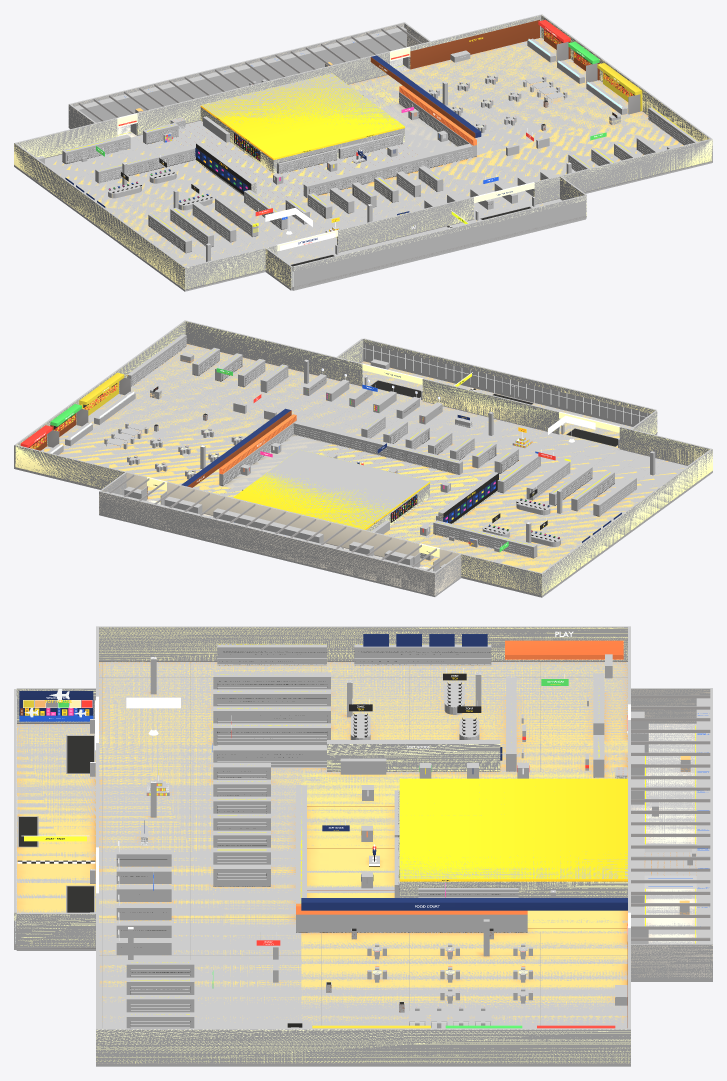
The picture shows the model from 3 angles, top to bottom: view 1: azimuth 30°, elevation 25°; view 2: azimuth 150°, elevation 25°; view 3: azimuth 270°, elevation 25°; orthographic projection. The views are drawn at different scales.
Visible parts, largest first — view 1: COL_tile_floor_0, VIS_polish, VIS_wall, COL_tile_floor_5, VIS_header, COL_concrete_lobby_storefront, COL_tile_floor_1, COL_metal_racking, COL_concrete_soft_block, COL_wood_floor_2, COL_concrete_store_w, VIS_grey (+37 smaller); view 2: COL_tile_floor_0, VIS_polish, VIS_wall, COL_tile_floor_5, COL_concrete_stock_n, VIS_concrete, COL_concrete_soft_block, COL_concrete_lobby_storefront, COL_tile_floor_1, VIS_header, COL_concrete_store_front_2, COL_concrete_store_w (+36 smaller); view 3: VIS_polish, COL_tile_floor_0, VIS_header, COL_concrete_store_e, COL_tile_floor_1, COL_tile_floor_5, VIS_wall, VIS_laminate, COL_concrete_store_w, VIS_grey, COL_tile_floor_6, VIS_navy (+50 smaller).
Part boxes in pixels (bbox=[...]): COL_tile_floor_0: bbox=[144, 114, 710, 290]; VIS_polish: bbox=[53, 38, 683, 265]; VIS_wall: bbox=[14, 16, 712, 289]; COL_tile_floor_5: bbox=[370, 37, 645, 154]; VIS_header: bbox=[66, 32, 698, 239]; COL_concrete_lobby_storefront: bbox=[292, 195, 585, 290]; COL_tile_floor_1: bbox=[45, 134, 252, 235]; COL_metal_racking: bbox=[74, 26, 406, 122]; COL_concrete_soft_block: bbox=[200, 73, 404, 172]; COL_wood_floor_2: bbox=[172, 120, 422, 204]; COL_concrete_store_w: bbox=[14, 142, 186, 291]; VIS_grey: bbox=[14, 25, 712, 289]; COL_tile_floor_0: bbox=[131, 344, 686, 512]; VIS_polish: bbox=[43, 344, 683, 572]; VIS_wall: bbox=[15, 321, 712, 595]; COL_tile_floor_5: bbox=[41, 392, 261, 500]; COL_concrete_stock_n: bbox=[100, 491, 433, 596]; VIS_concrete: bbox=[99, 473, 461, 595]; COL_concrete_soft_block: bbox=[251, 449, 429, 531]; COL_concrete_lobby_storefront: bbox=[363, 338, 656, 426]; COL_tile_floor_1: bbox=[420, 486, 622, 571]; VIS_header: bbox=[30, 340, 631, 545]; COL_concrete_store_front_2: bbox=[185, 320, 362, 385]; COL_concrete_store_w: bbox=[540, 448, 712, 597]; VIS_polish: bbox=[17, 662, 627, 1025]; COL_tile_floor_0: bbox=[99, 662, 301, 1028]; VIS_header: bbox=[25, 644, 695, 1014]; COL_concrete_store_e: bbox=[96, 1028, 630, 1066]; COL_tile_floor_1: bbox=[301, 662, 627, 771]; COL_tile_floor_5: bbox=[301, 932, 627, 1028]; VIS_wall: bbox=[14, 627, 630, 1063]; VIS_laminate: bbox=[301, 772, 627, 931]; COL_concrete_store_w: bbox=[96, 626, 630, 661]; VIS_grey: bbox=[14, 661, 710, 1064]; COL_tile_floor_6: bbox=[17, 724, 95, 912]; VIS_navy: bbox=[19, 634, 627, 910].
Size of the model in its own units: 105 by 5.8 by 76.6.
